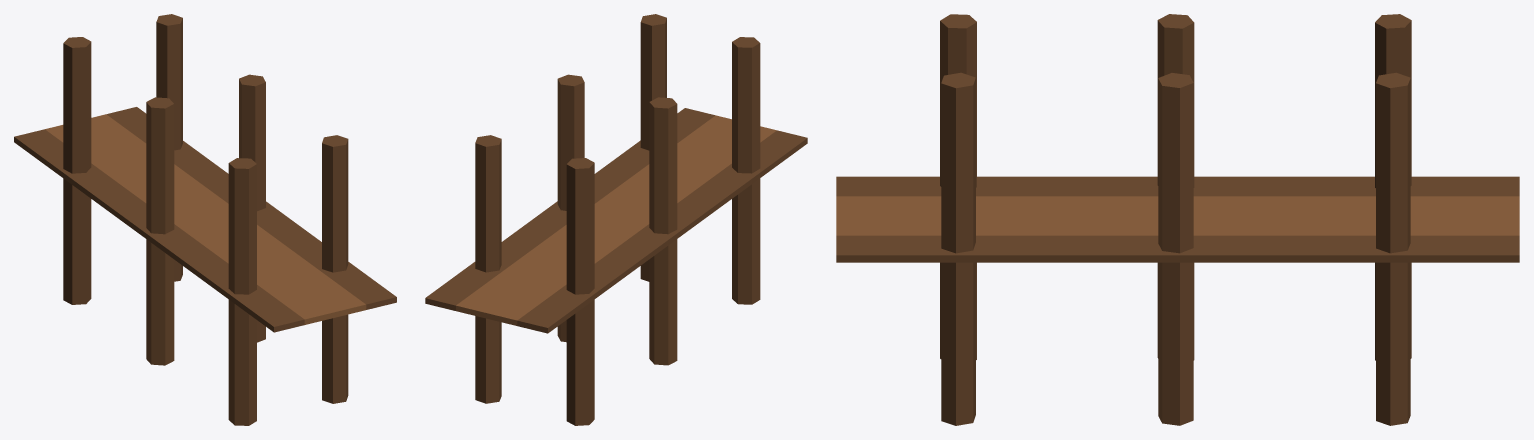
File: Bridge_6_Light_Brown.fbx
3 views of the same model, side by side, from view 1: azimuth 30°, elevation 25°; view 2: azimuth 150°, elevation 25°; view 3: azimuth 270°, elevation 25° (orthographic). The views are drawn at different scales.
Parts seen in each view (by area): view 1: Bridge_6_Light_Brown_Part_1, Bridge_6_Light_Brown_Part_2, Bridge_6_Light_Brown_Part_6, Bridge_6_Light_Brown_Part_4, Bridge_6_Light_Brown_Part_3, Bridge_6_Light_Brown_Part_5, Bridge_6_Light_Brown_Part_7; view 2: Bridge_6_Light_Brown_Part_1, Bridge_6_Light_Brown_Part_2, Bridge_6_Light_Brown_Part_4, Bridge_6_Light_Brown_Part_6, Bridge_6_Light_Brown_Part_7, Bridge_6_Light_Brown_Part_5, Bridge_6_Light_Brown_Part_3; view 3: Bridge_6_Light_Brown_Part_1, Bridge_6_Light_Brown_Part_5, Bridge_6_Light_Brown_Part_3, Bridge_6_Light_Brown_Part_7, Bridge_6_Light_Brown_Part_4, Bridge_6_Light_Brown_Part_6, Bridge_6_Light_Brown_Part_2.
Part boxes in pixels (x1,y1,x2,y2): Bridge_6_Light_Brown_Part_1: [14, 107, 396, 332]; Bridge_6_Light_Brown_Part_2: [228, 158, 256, 425]; Bridge_6_Light_Brown_Part_6: [63, 37, 91, 304]; Bridge_6_Light_Brown_Part_4: [146, 97, 174, 365]; Bridge_6_Light_Brown_Part_3: [322, 135, 348, 403]; Bridge_6_Light_Brown_Part_5: [239, 74, 265, 342]; Bridge_6_Light_Brown_Part_7: [156, 14, 182, 281]; Bridge_6_Light_Brown_Part_1: [425, 108, 807, 333]; Bridge_6_Light_Brown_Part_2: [732, 37, 760, 304]; Bridge_6_Light_Brown_Part_4: [649, 97, 677, 365]; Bridge_6_Light_Brown_Part_6: [566, 158, 594, 425]; Bridge_6_Light_Brown_Part_7: [475, 135, 501, 403]; Bridge_6_Light_Brown_Part_5: [557, 74, 584, 342]; Bridge_6_Light_Brown_Part_3: [640, 14, 666, 281]; Bridge_6_Light_Brown_Part_1: [836, 176, 1519, 262]; Bridge_6_Light_Brown_Part_5: [1158, 73, 1193, 425]; Bridge_6_Light_Brown_Part_3: [941, 72, 975, 425]; Bridge_6_Light_Brown_Part_7: [1376, 72, 1410, 425]; Bridge_6_Light_Brown_Part_4: [1157, 14, 1194, 360]; Bridge_6_Light_Brown_Part_6: [1375, 14, 1411, 360]; Bridge_6_Light_Brown_Part_2: [940, 14, 976, 359].
Bounding box in the file's own units: 300 × 600 × 1100.
